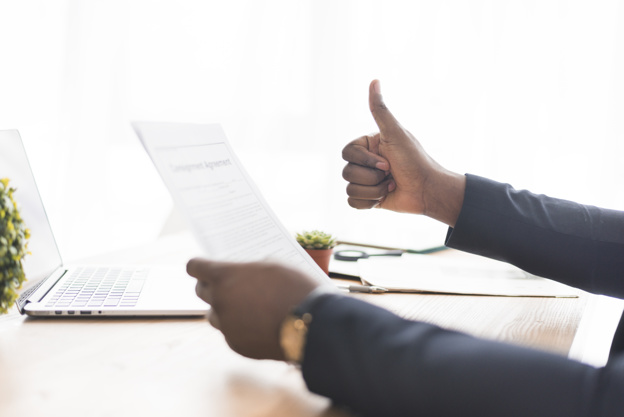thumbsup: (341, 78, 401, 210)
